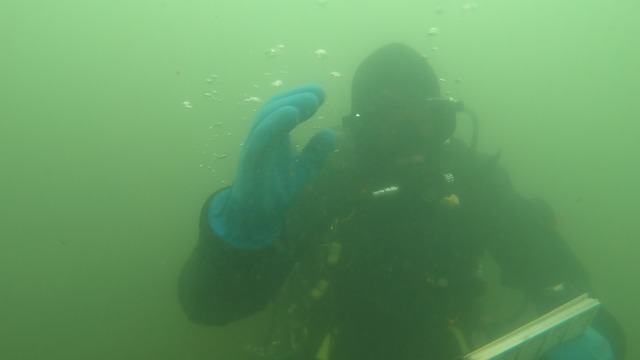Diver: (168, 32, 619, 355)
Hand: (219, 69, 343, 244)
Head: (344, 37, 472, 221)
